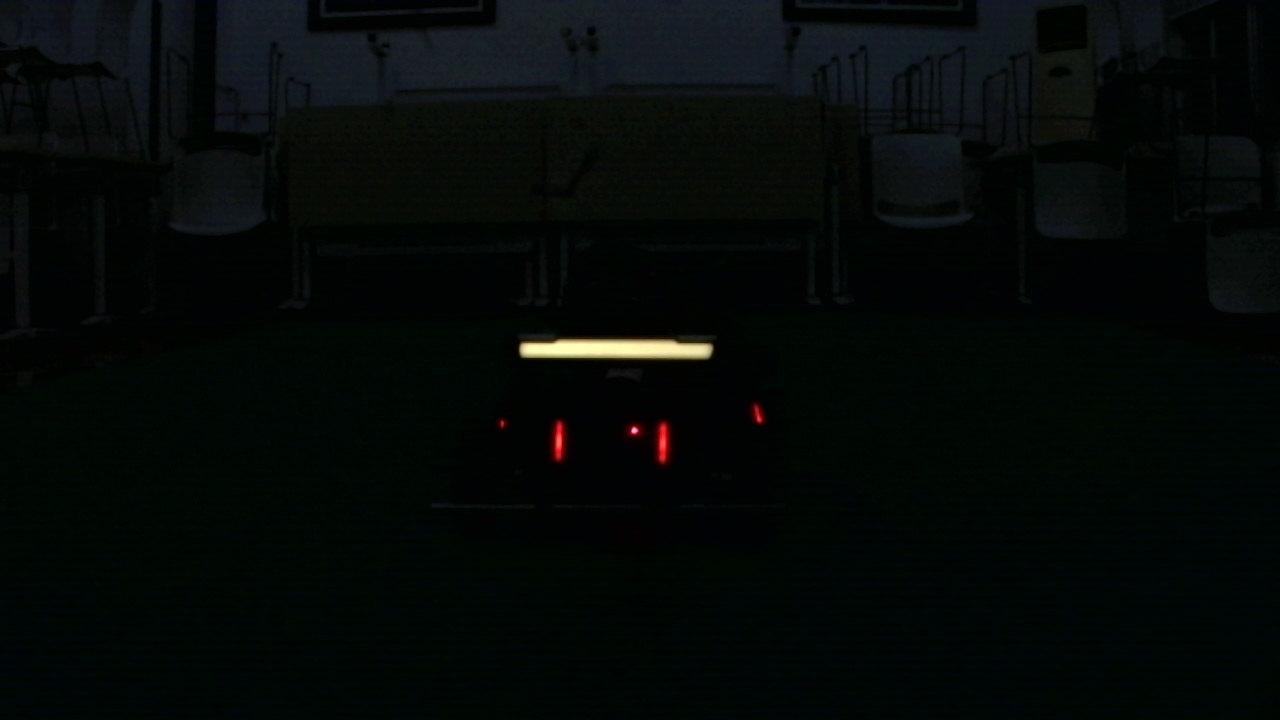lamp: (653, 419, 670, 465), (553, 414, 565, 466)
pair1: (555, 415, 668, 464)
